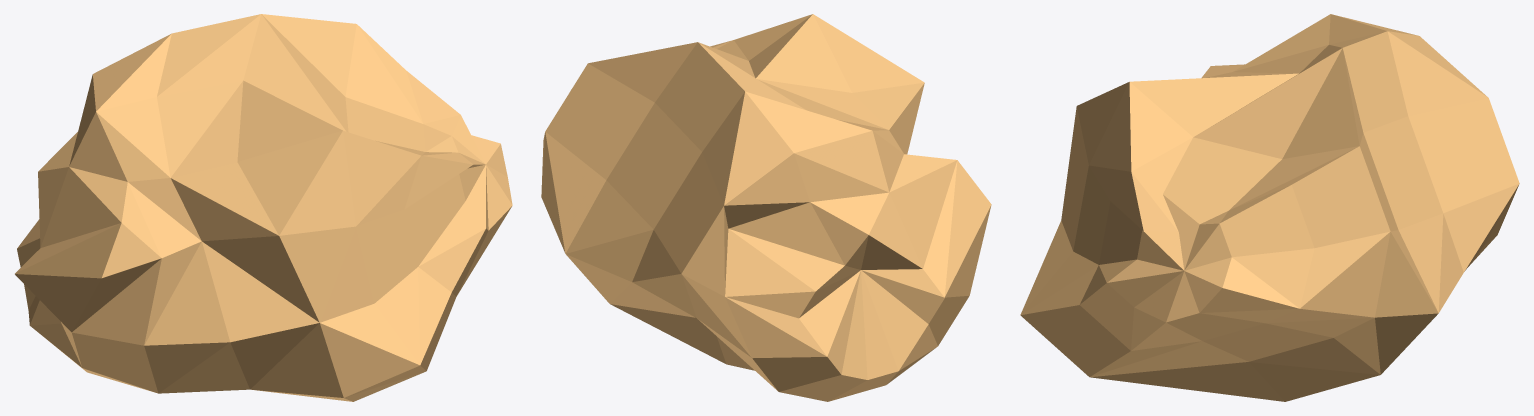
3 views of the same model, side by side, from view 1: azimuth 30°, elevation 25°; view 2: azimuth 150°, elevation 25°; view 3: azimuth 270°, elevation 25° (orthographic). The views are drawn at different scales.
Visible parts, largest first — view 1: mesh_1446250878; view 2: mesh_1446250878; view 3: mesh_1446250878.
Part boxes in pixels (x1,y1,x2,y2): mesh_1446250878: (15,14,512,401); mesh_1446250878: (541,14,991,401); mesh_1446250878: (1020,14,1519,401).
Size of the model in its own units: 150 by 109 by 140.
